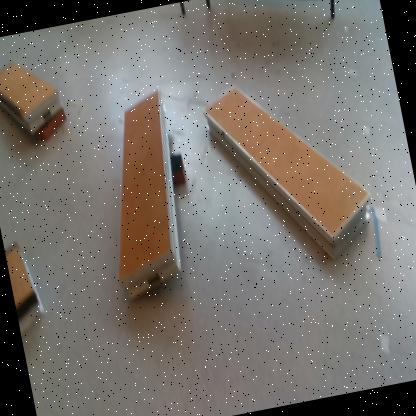Stairs: (204, 88, 373, 261), (119, 88, 183, 308), (1, 61, 65, 136), (6, 244, 46, 339)
